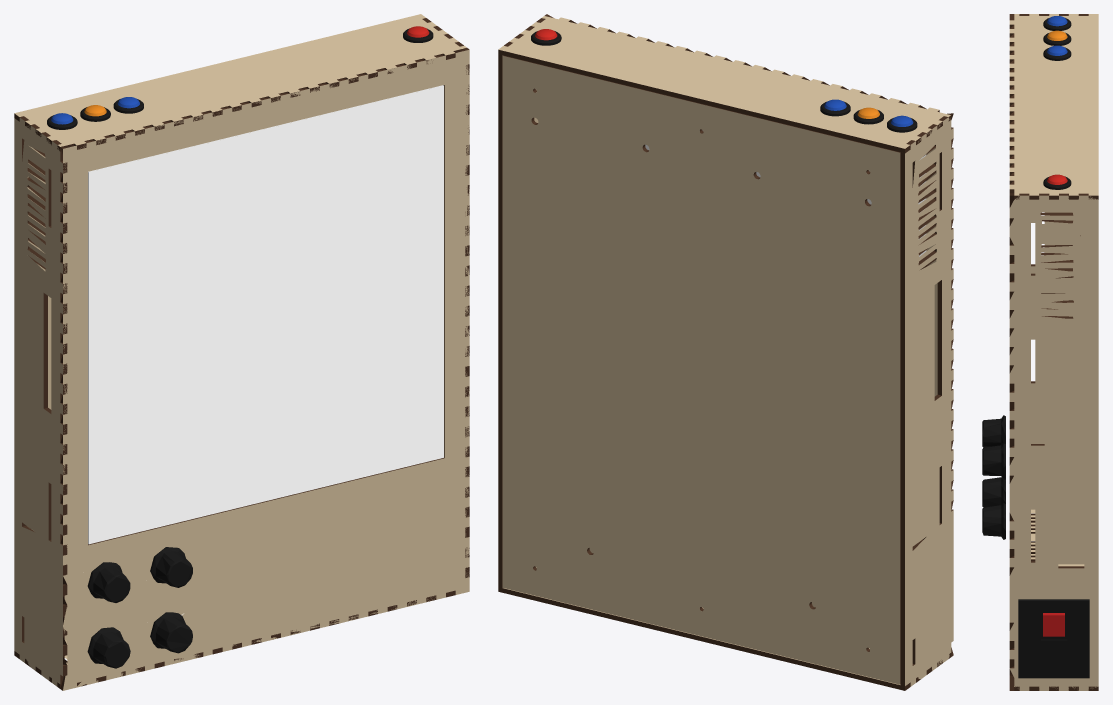
Rendered from light.glb.
3 renders of one model, left to right at view 1: azimuth 30°, elevation 25°; view 2: azimuth 150°, elevation 25°; view 3: azimuth 270°, elevation 25°, orthographic. The views are drawn at different scales.
Parts seen in each view (by area): view 1: body, l; view 2: body; view 3: body.
Part boxes in pixels (x1,y1,x2,y2): body: (14,14,469,690); l: (88,86,443,544); body: (498,14,953,690); body: (982,14,1098,690).
Size of the model in its own units: 29.95 by 37.88 by 7.92.
